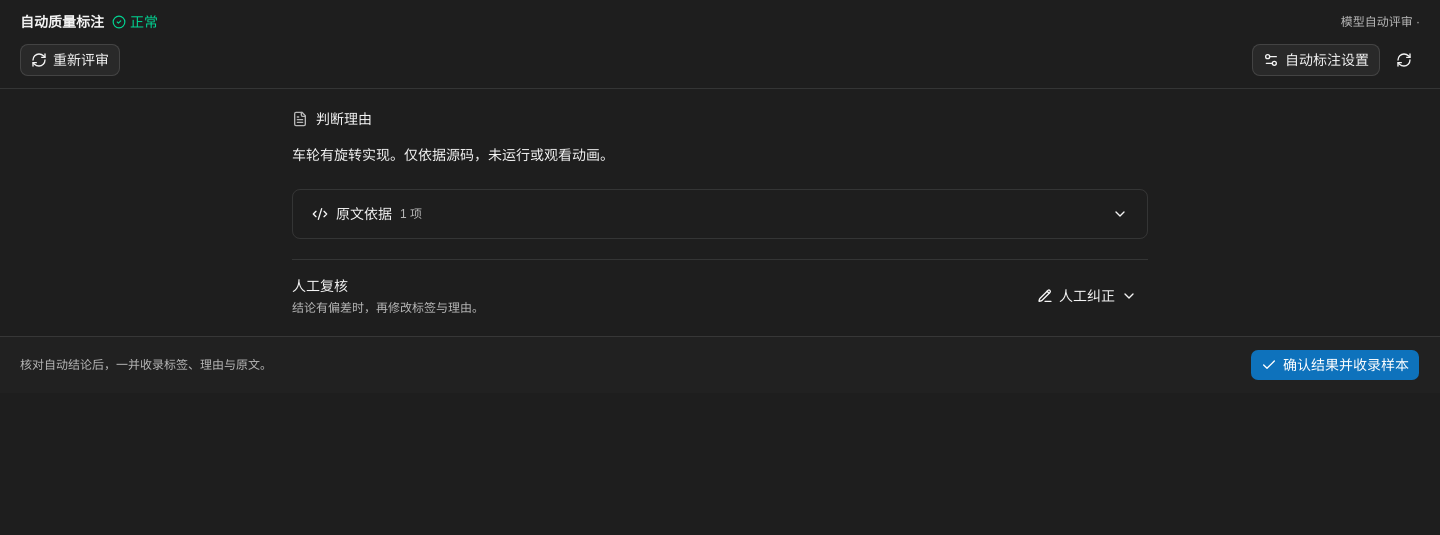
it: 自动理由附带题目和原文证据时可直接核对，无需填写人工理由
This screenshot has width=1440, height=535.
Click the button "原文依据 1 项" at x=364, y=214, box [301,198,1139,230]
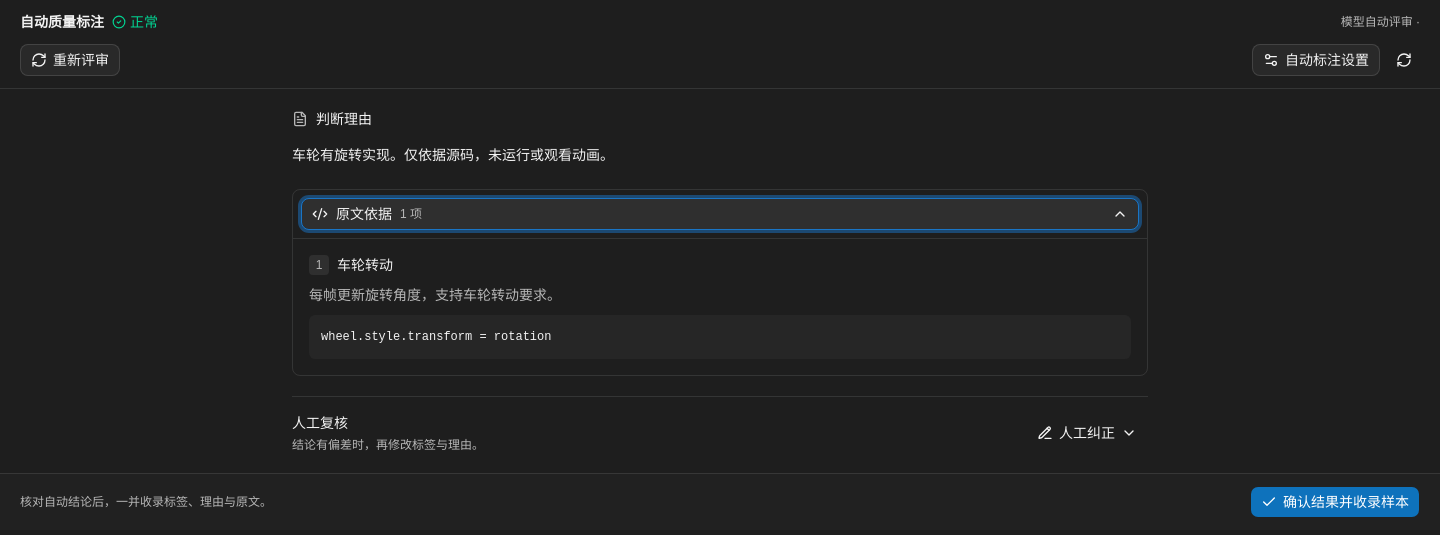
Check: the text "每帧更新旋转角度，支持车轮转动要求。" is shown, box [309,287,561,303]
Check: the text "车轮转动" is shown, box [337,255,393,275]
Check: the text "wheel.style.transform = rotation" is shown, box [321,330,551,344]
